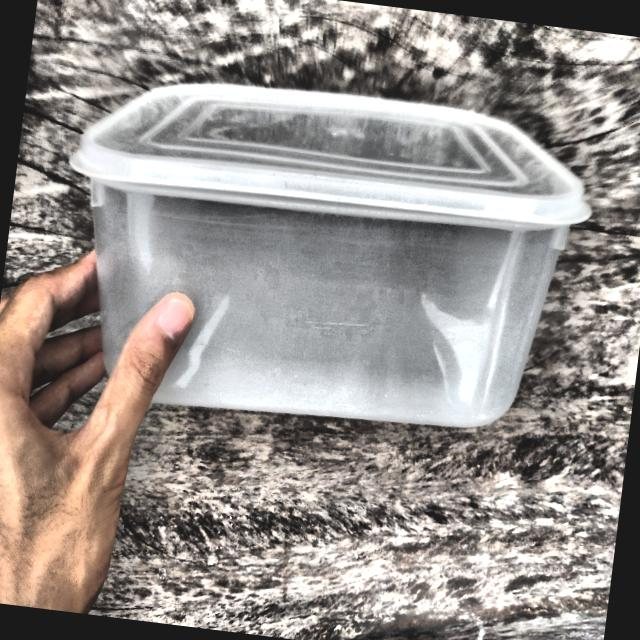plastic container: (27, 28, 596, 454)
